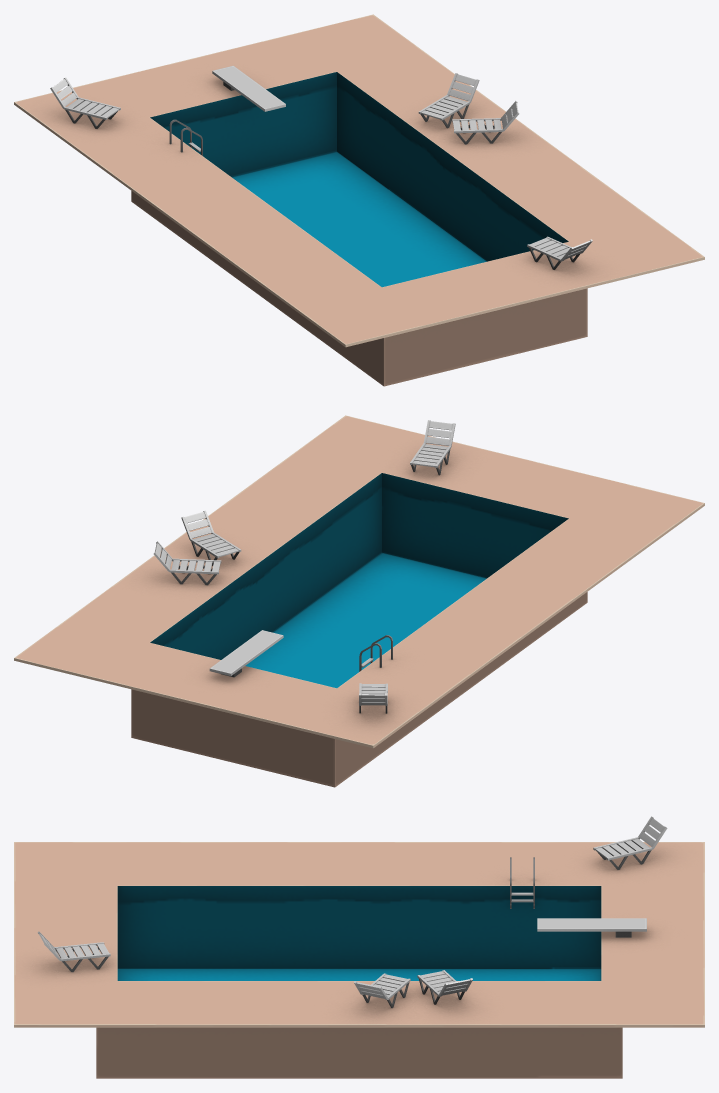
The model's file is pool.glb.
The picture shows the model from 3 angles, top to bottom: view 1: azimuth 30°, elevation 25°; view 2: azimuth 150°, elevation 25°; view 3: azimuth 270°, elevation 25°; orthographic projection. The views are drawn at different scales.
Parts seen in each view (by area): view 1: Node; view 2: Node; view 3: Node.
Part boxes in pixels (x1,y1,x2,y2): Node: (14, 14, 704, 386); Node: (14, 415, 704, 787); Node: (14, 816, 704, 1078).
Size of what is drawn, in the model's own units: 26.8 by 8.56 by 42.82.
Materials: 1 (1 with a texture image).
